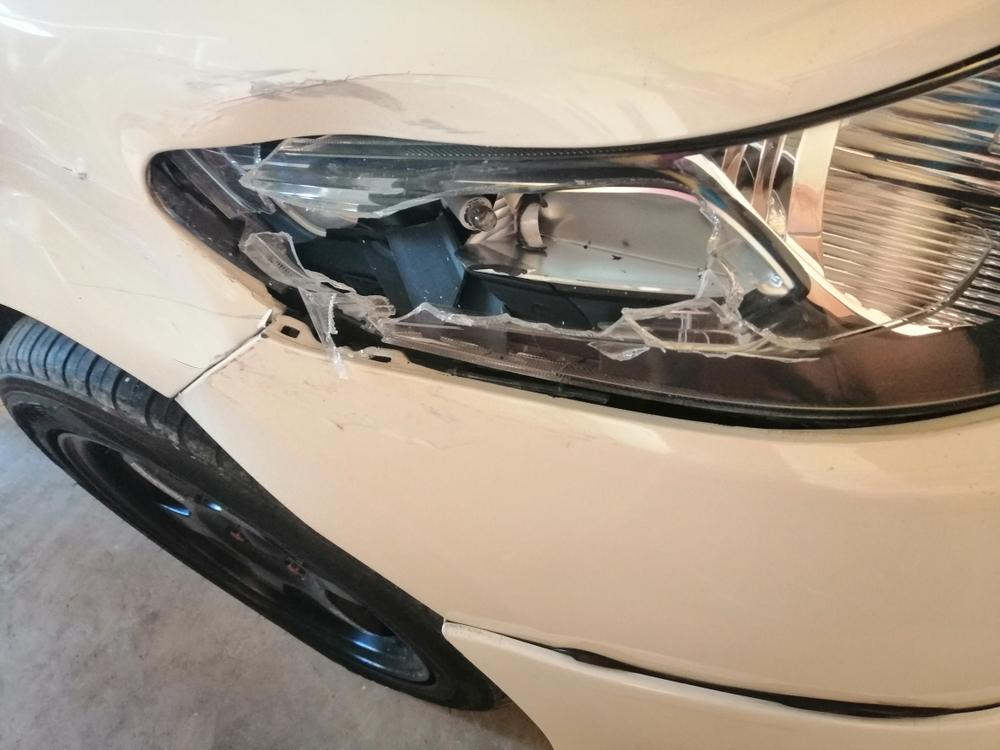dent: (0, 122, 229, 366), (188, 75, 575, 148)
lamp broken: (154, 50, 1000, 425)
